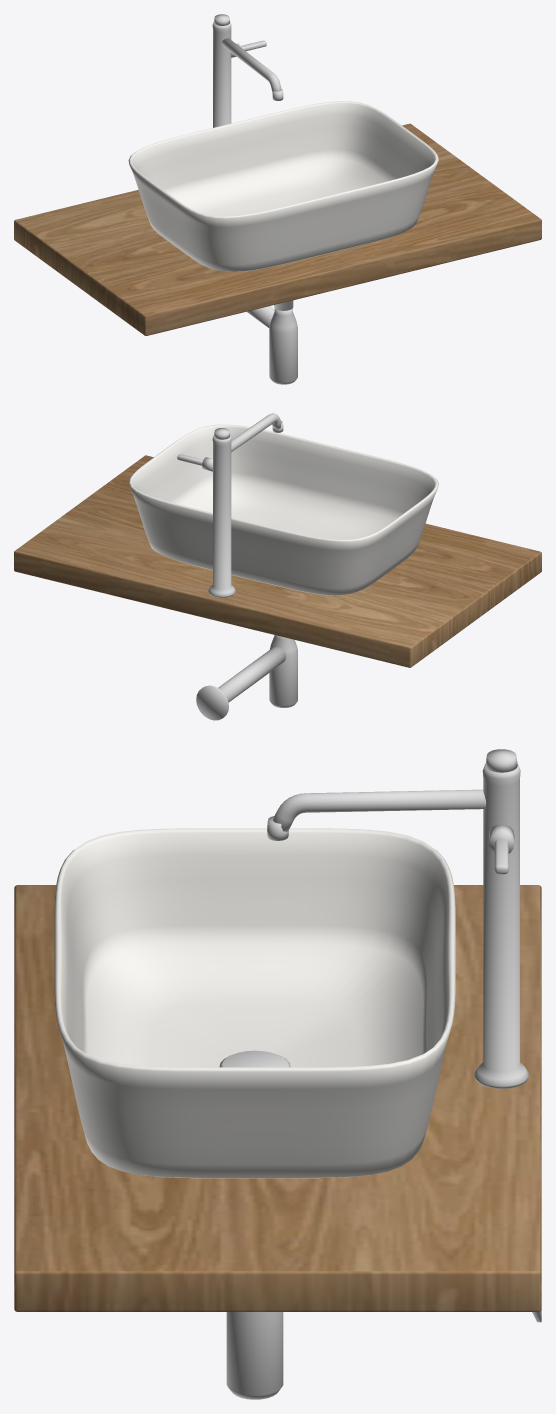
File: lavabo_sobre_encimera_rectangular_80.glb
3 renders of one model, top to bottom at view 1: azimuth 30°, elevation 25°; view 2: azimuth 150°, elevation 25°; view 3: azimuth 270°, elevation 25°, orthographic. The views are drawn at different scales.
Visible parts, largest first — view 1: lavabo_sobre_encimera_rectangular_80; view 2: lavabo_sobre_encimera_rectangular_80; view 3: lavabo_sobre_encimera_rectangular_80.
Boxes of the visible parts, x1,y1,x2,y2 form: lavabo_sobre_encimera_rectangular_80: (14,14,541,384); lavabo_sobre_encimera_rectangular_80: (14,413,541,720); lavabo_sobre_encimera_rectangular_80: (14,749,541,1399).
Size of the model in its own units: 0.8 by 0.612 by 0.46.
Materials: 3 (1 with a texture image).
